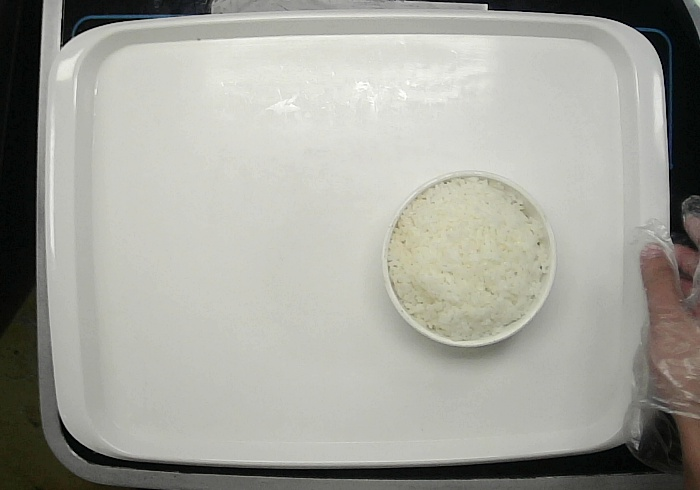HZYJPL-Fan_Wan: (382, 170, 557, 348)
